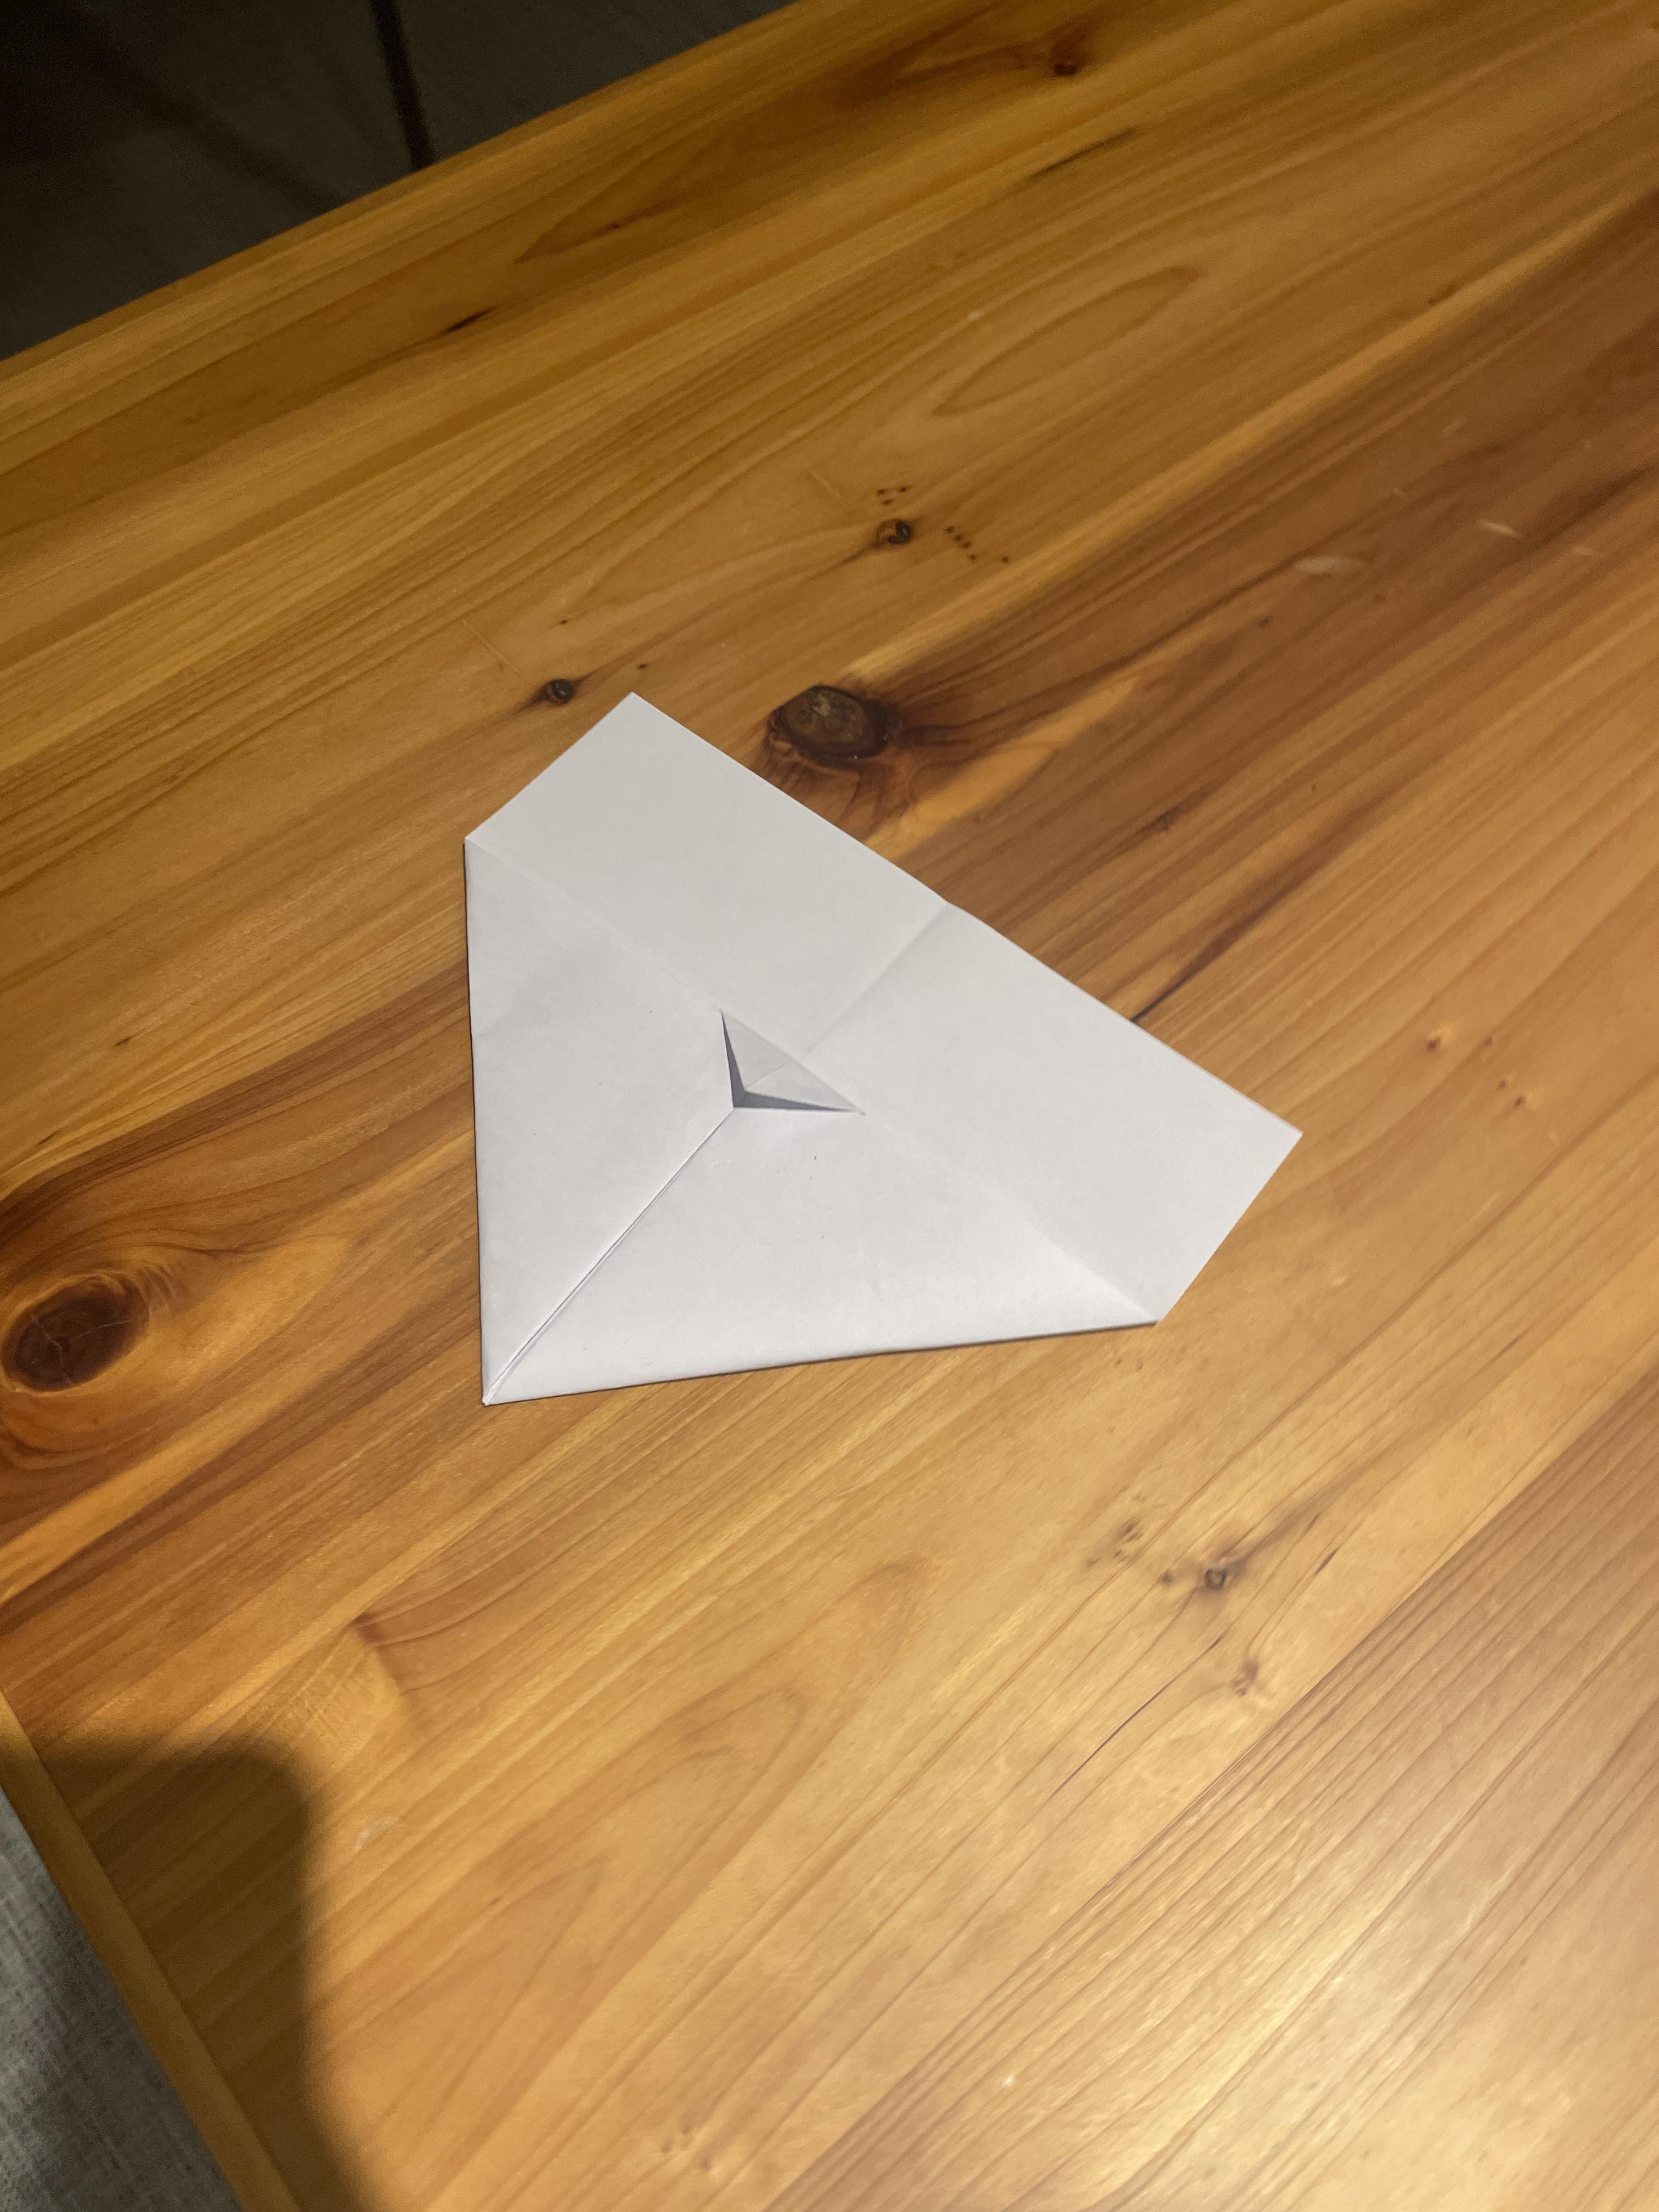shape_2: (291, 538, 1412, 1507)
